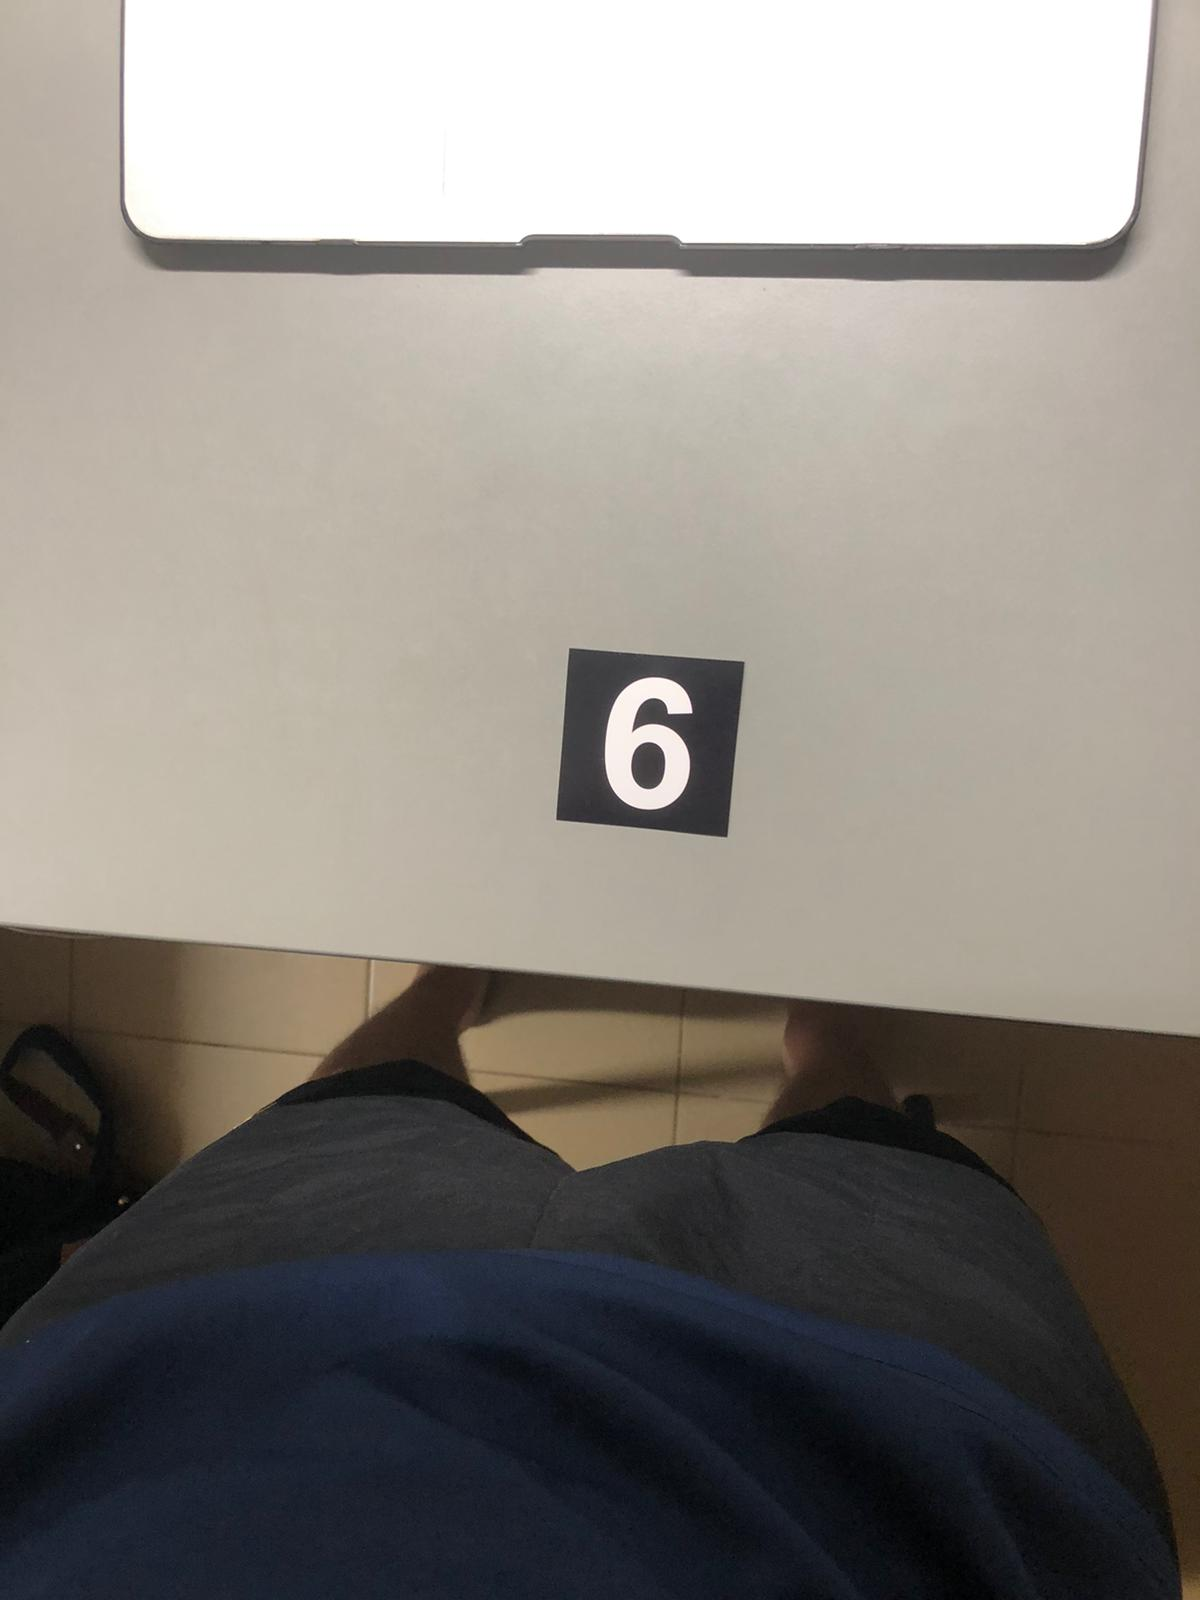Number 6: (558, 650, 729, 833)
